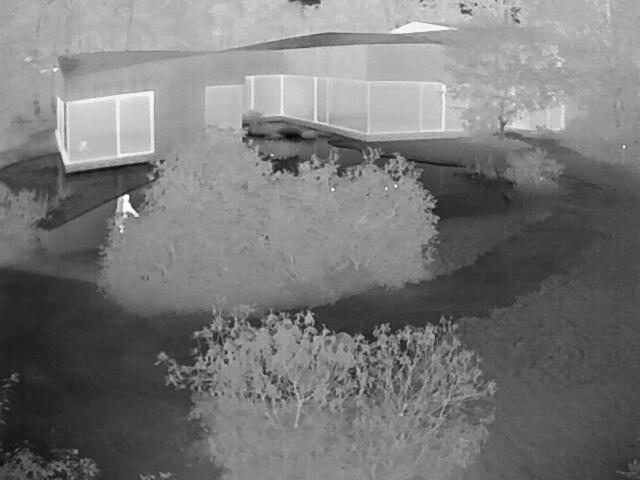person: (119, 193, 138, 222)
